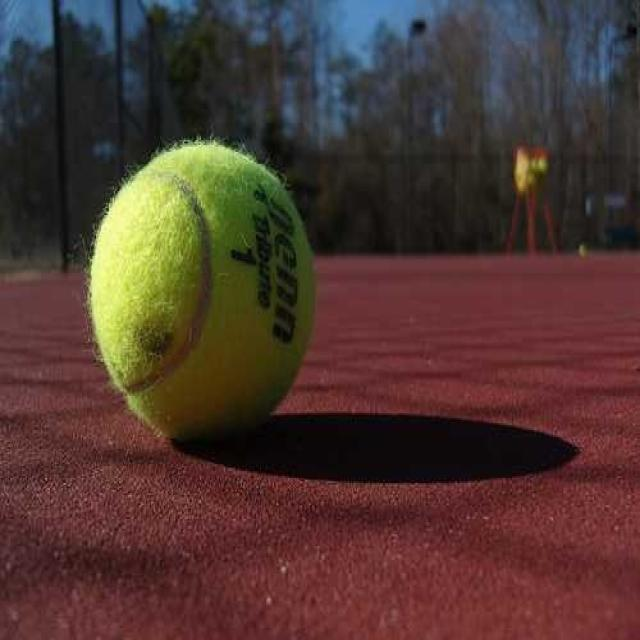Tennis_Ball: (87, 138, 316, 444)
